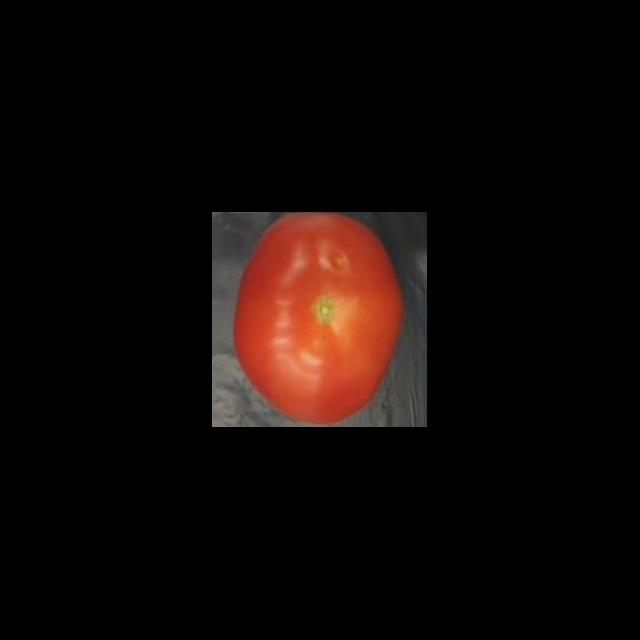tomato: (228, 212, 410, 428)
